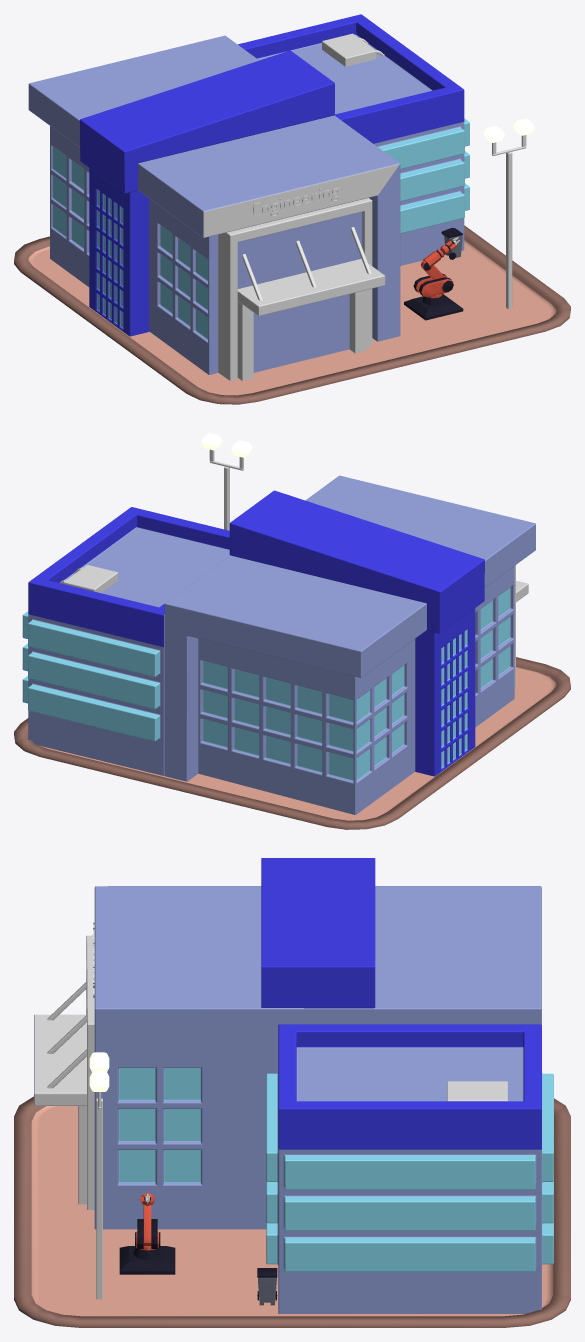
The model's file is engenharia_level_02.fbx.
3 views of the same model, one above another, from view 1: azimuth 30°, elevation 25°; view 2: azimuth 150°, elevation 25°; view 3: azimuth 270°, elevation 25° (orthographic). The views are drawn at different scales.
Visible parts, largest first — view 1: Plane.001, Plane.005, Braco_robo.001, Text.002; view 2: Plane.001, Plane.005; view 3: Plane.001, Plane.005, Braco_robo.001, lixeira.001.
Boxes of the visible parts, bbox=[...] form: Plane.001: bbox=[28, 14, 534, 380]; Plane.005: bbox=[14, 225, 570, 404]; Braco_robo.001: bbox=[404, 237, 463, 320]; Text.002: bbox=[253, 187, 339, 217]; Plane.001: bbox=[22, 433, 535, 814]; Plane.005: bbox=[14, 657, 570, 829]; Plane.001: bbox=[34, 858, 553, 1313]; Plane.005: bbox=[14, 1096, 570, 1327]; Braco_robo.001: bbox=[119, 1192, 175, 1274]; lixeira.001: bbox=[257, 1268, 277, 1305].
Size of the model in its own units: 2000 by 1048 by 2000.
